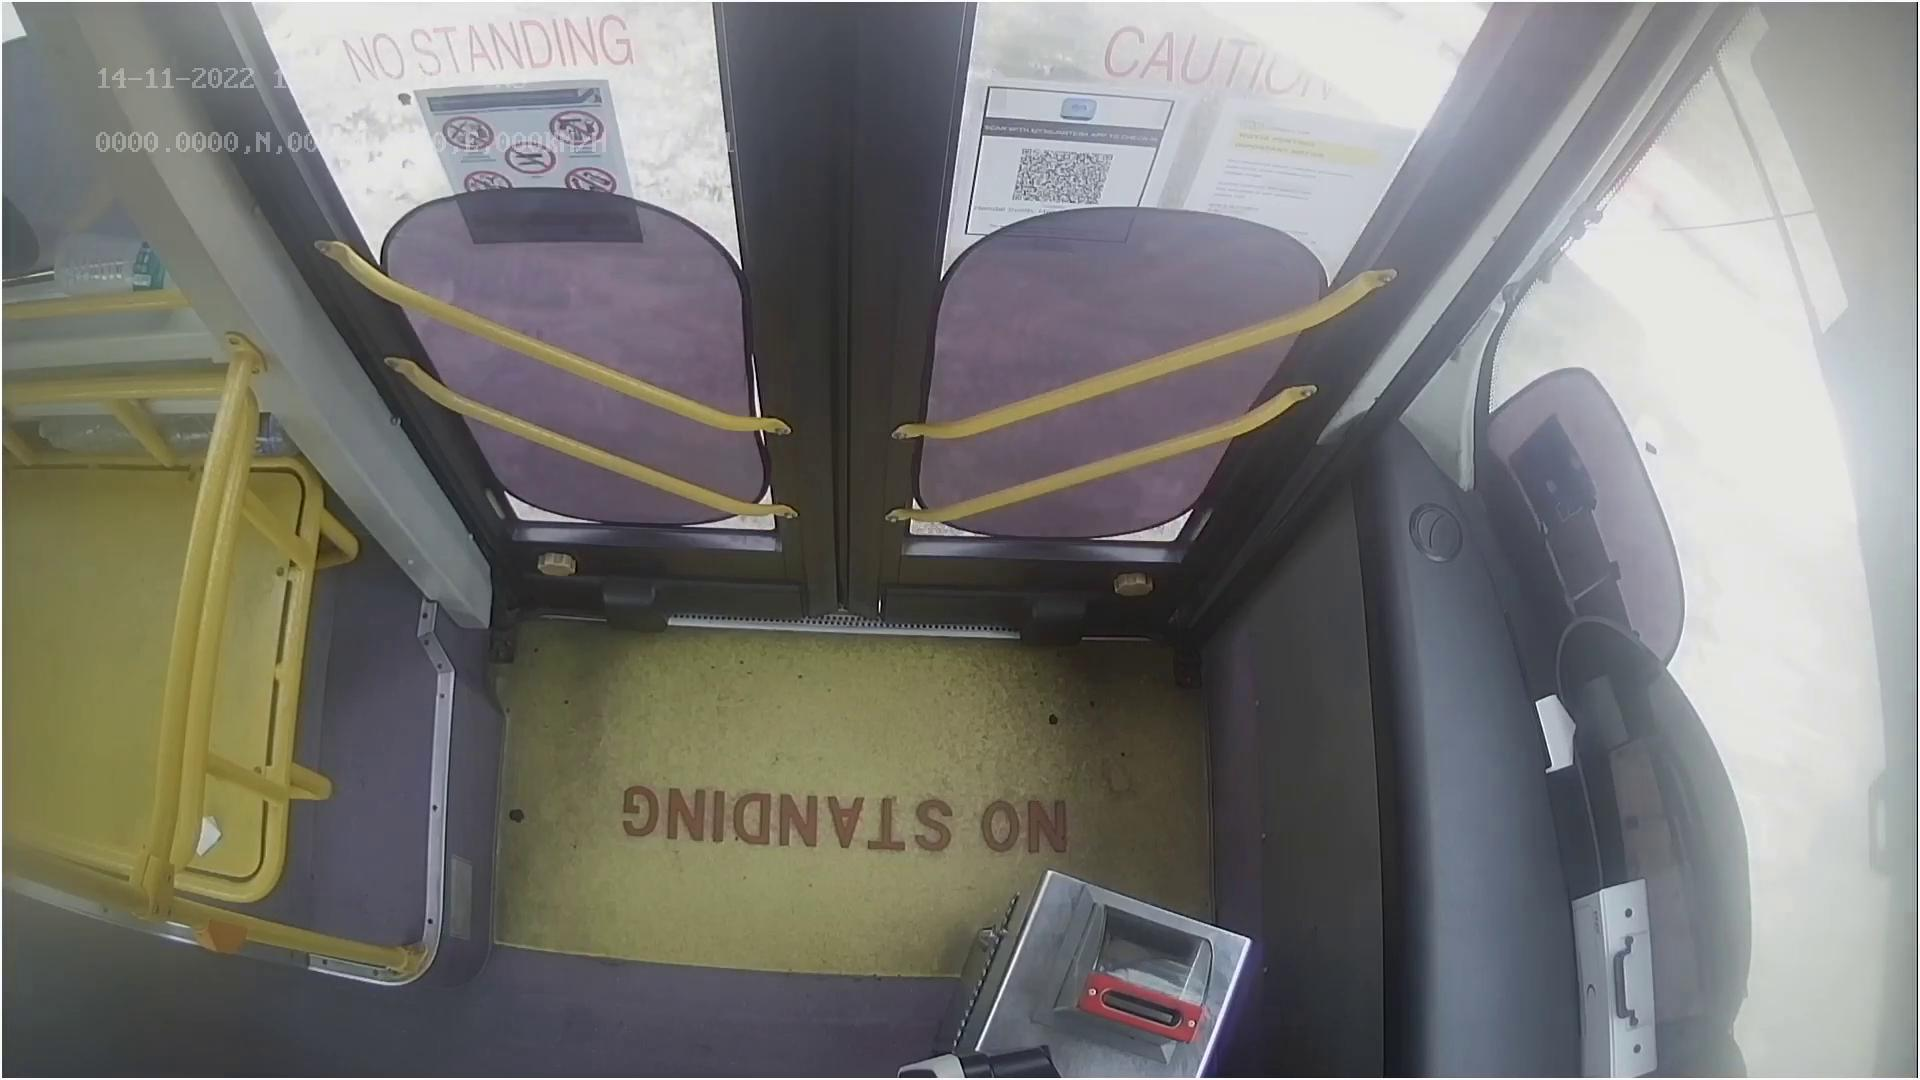close: (282, 0, 1447, 164)
